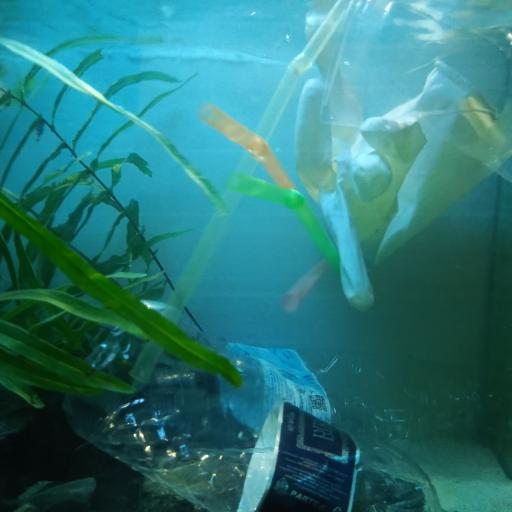glove: (294, 14, 512, 312)
plastic_bottle: (96, 299, 441, 512), (202, 334, 494, 450)
plastic_cup: (321, 0, 512, 181)
plastic_straw: (127, 0, 352, 378), (229, 175, 338, 274), (203, 105, 295, 190), (279, 259, 330, 313)
